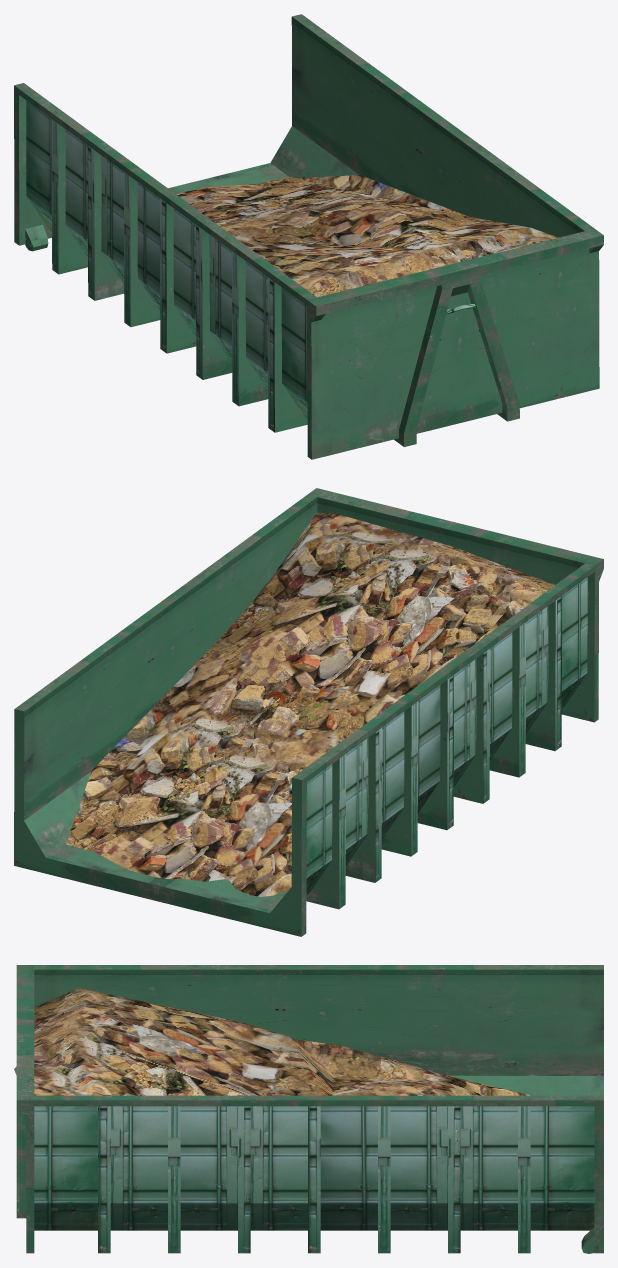
Rendered from DumpsterDirty05.FBX.
The picture shows the model from 3 angles, top to bottom: view 1: azimuth 30°, elevation 25°; view 2: azimuth 150°, elevation 25°; view 3: azimuth 270°, elevation 25°; orthographic projection. The views are drawn at different scales.
Parts seen in each view (by area): view 1: DumpsterDirty05, DumpsterDirty05Gravel; view 2: DumpsterDirty05, DumpsterDirty05Gravel; view 3: DumpsterDirty05, DumpsterDirty05Gravel.
Part boxes in pixels (bbox=[...]): DumpsterDirty05: bbox=[14, 14, 603, 459]; DumpsterDirty05Gravel: bbox=[176, 175, 558, 297]; DumpsterDirty05: bbox=[14, 488, 603, 936]; DumpsterDirty05Gravel: bbox=[65, 512, 554, 896]; DumpsterDirty05: bbox=[14, 965, 603, 1253]; DumpsterDirty05Gravel: bbox=[34, 988, 529, 1095].
Bounding box in the file's own units: 3499 × 1891 × 6386.
